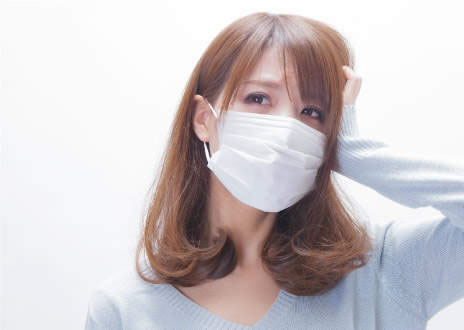mask: (202, 95, 331, 213)
